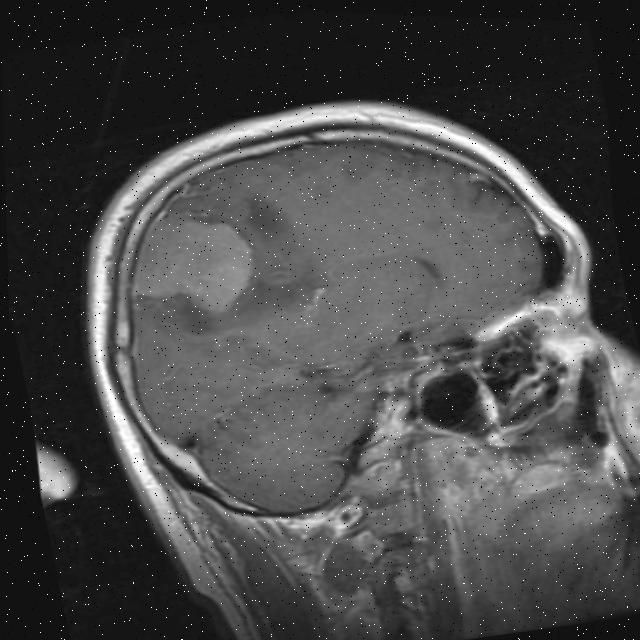Meningioma: (118, 198, 265, 327)
